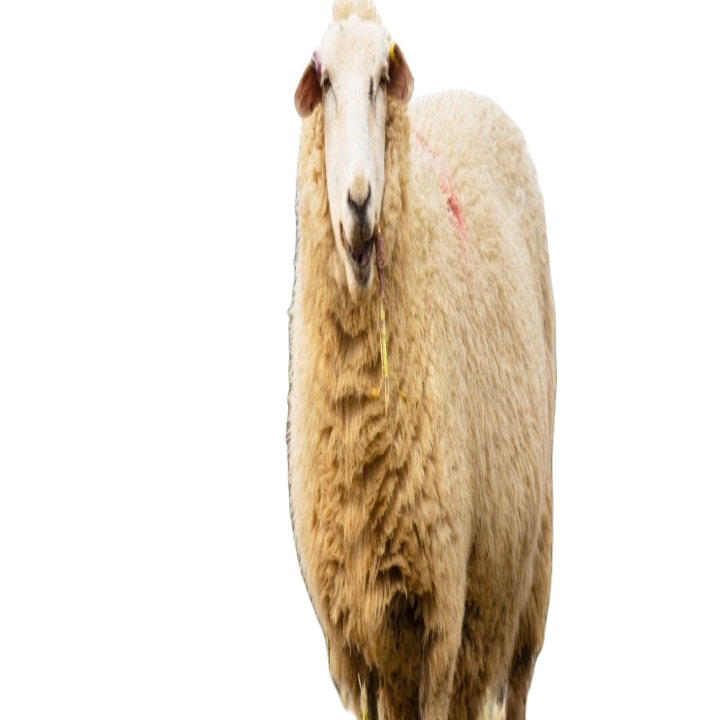Sheep: (273, 0, 566, 719)
